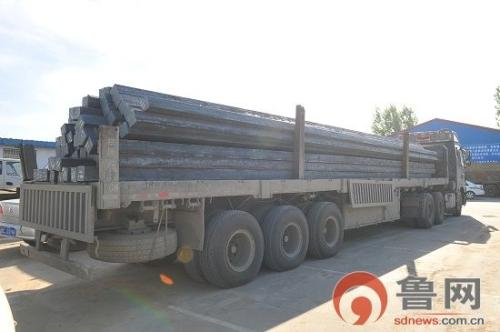chaozhai: (19, 84, 471, 282)
